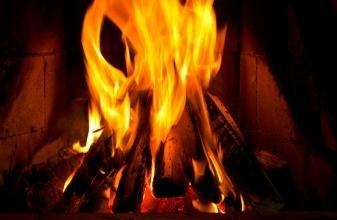fire: (75, 0, 240, 207)
